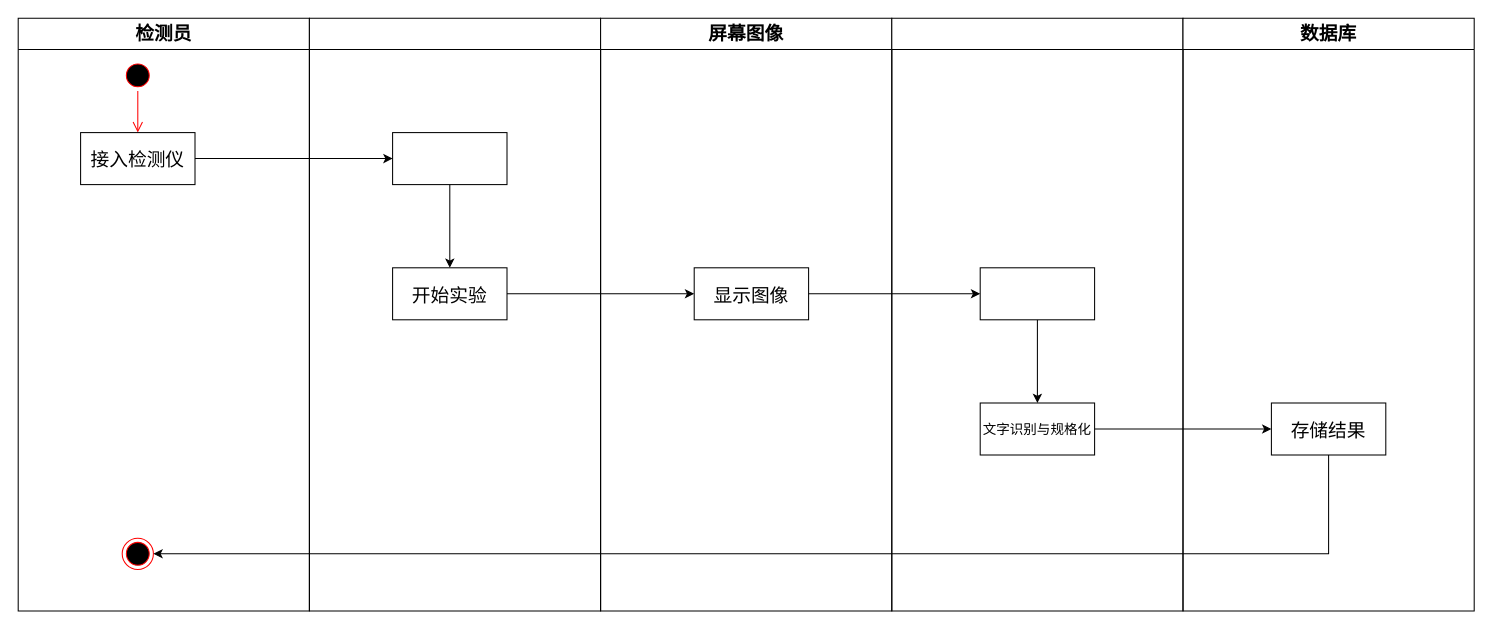
Image size: 1492x629. Some labels were removed from this diagram. The shapes that lost their labels are listed below. From the top down, each one's box as (x1, y1, x2, y2) in pixels, then its label:
(392, 132, 507, 185): 输入数据
(979, 267, 1095, 320): 采集图像
(308, 17, 601, 611): 二次压降检测仪
(891, 17, 1183, 611): 采集设备
